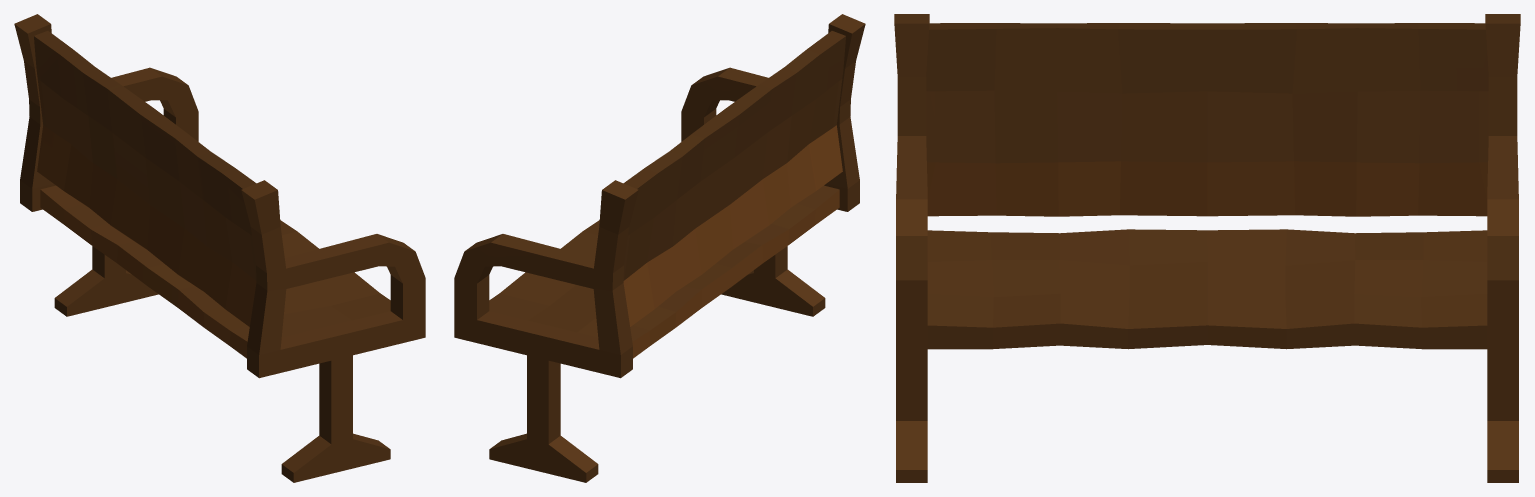
The model's file is bench.gltf.
The picture shows the model from 3 angles, left to right: view 1: azimuth 30°, elevation 25°; view 2: azimuth 150°, elevation 25°; view 3: azimuth 270°, elevation 25°; orthographic projection. The views are drawn at different scales.
Parts seen in each view (by area): view 1: Cube.267; view 2: Cube.267; view 3: Cube.267.
Part boxes in pixels (bbox=[...]): Cube.267: bbox=[14, 14, 425, 482]; Cube.267: bbox=[454, 14, 865, 482]; Cube.267: bbox=[894, 14, 1520, 482].
Bounding box in the file's own units: 134 × 221 × 324.
